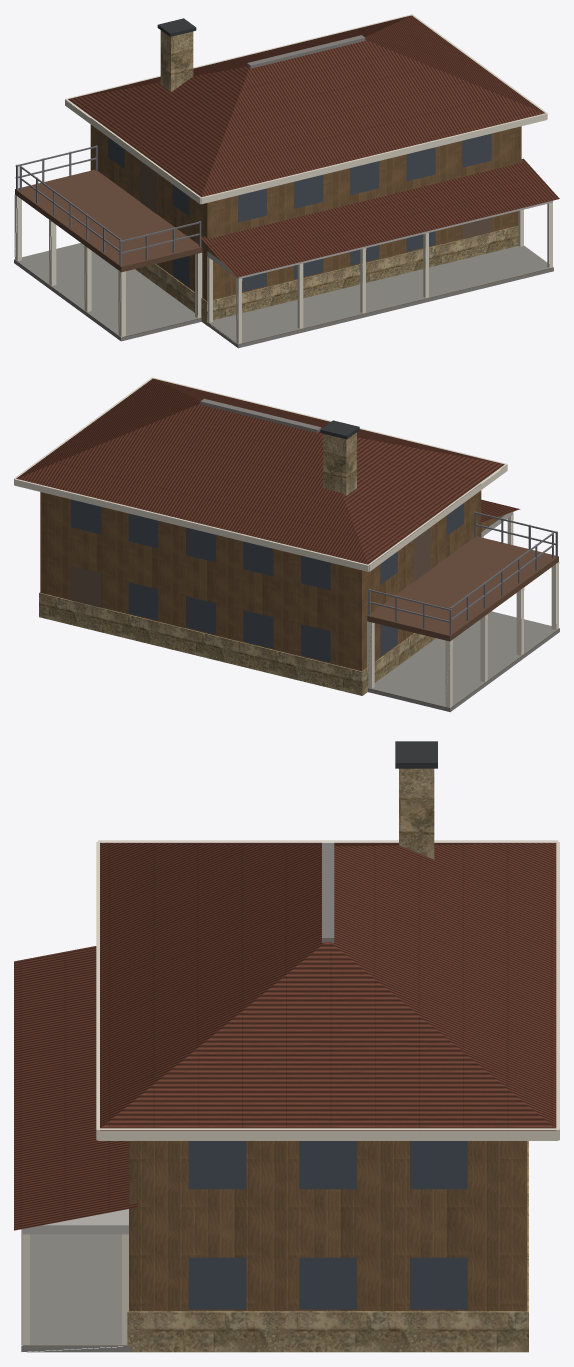
File: cr-ranch-two.zfix-v22.lod1.glb
3 views of the same model, one above another, from view 1: azimuth 30°, elevation 25°; view 2: azimuth 150°, elevation 25°; view 3: azimuth 270°, elevation 25° (orthographic). The views are drawn at different scales.
Visible parts, largest first — view 1: cr-ranch-two; view 2: cr-ranch-two; view 3: cr-ranch-two.
Boxes of the visible parts, x1,y1,x2,y2 form: cr-ranch-two: [14, 14, 559, 348]; cr-ranch-two: [14, 377, 559, 712]; cr-ranch-two: [14, 741, 559, 1352].
Bounding box in the file's own units: 18.37 × 9.56 × 12.34.
Materials: 4 (3 with a texture image).
